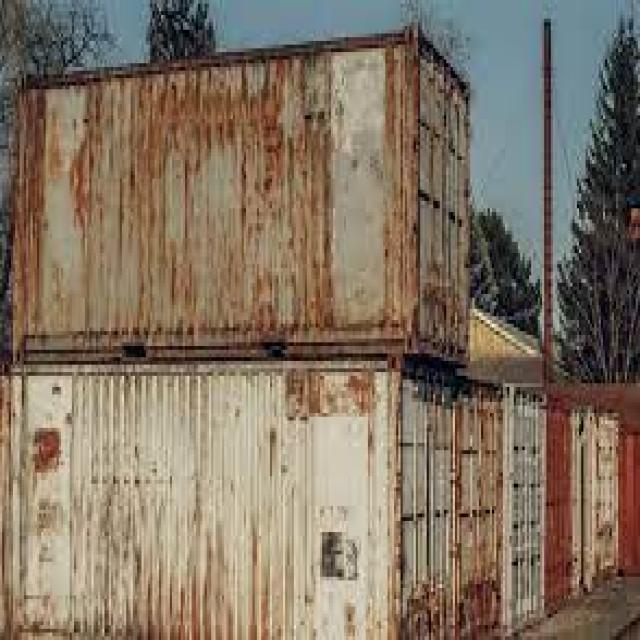rust: (64, 42, 337, 350), (7, 74, 51, 366), (379, 32, 419, 348), (398, 566, 508, 640), (280, 366, 381, 428)
